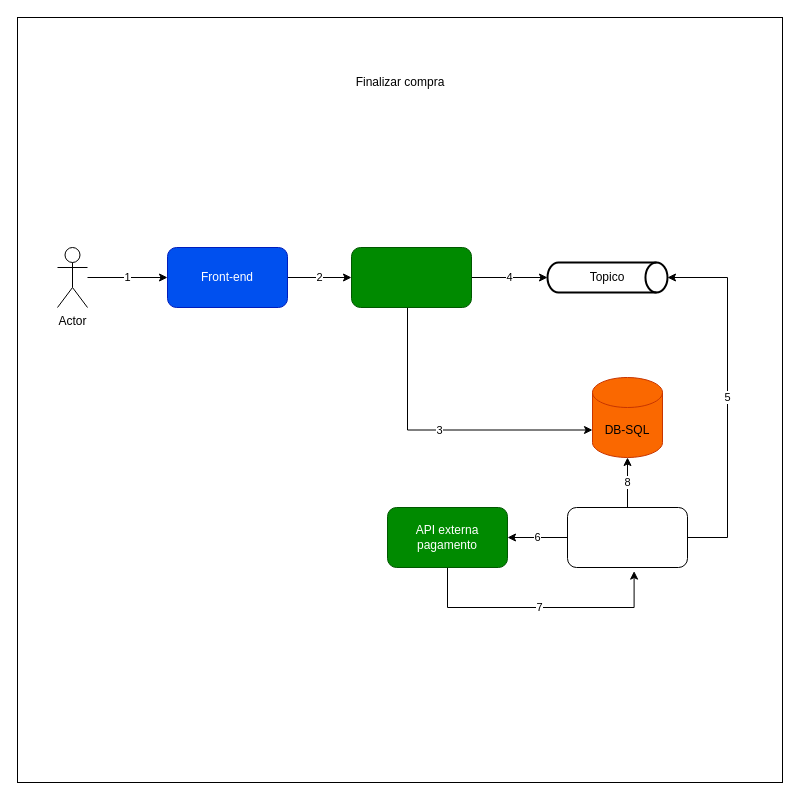
Some shapes in this 800 by 800 pixel diagram are drawn without their labels. Here are the shapes that lost their labels. From the top down, the box of each, then its label:
(350, 246, 472, 308): Back-end
(566, 506, 688, 568): Servico de pagamento
